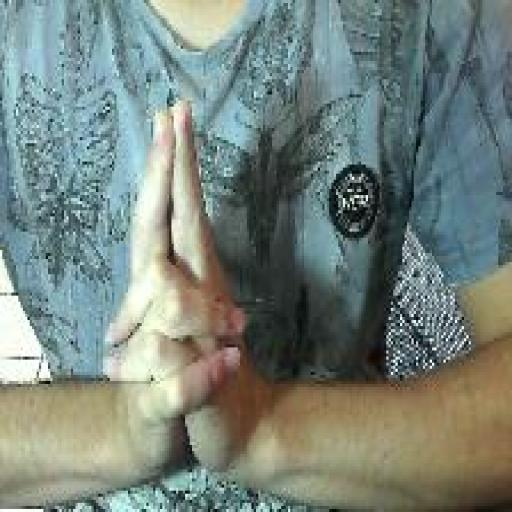Tora -tiger-: (98, 92, 252, 488)
